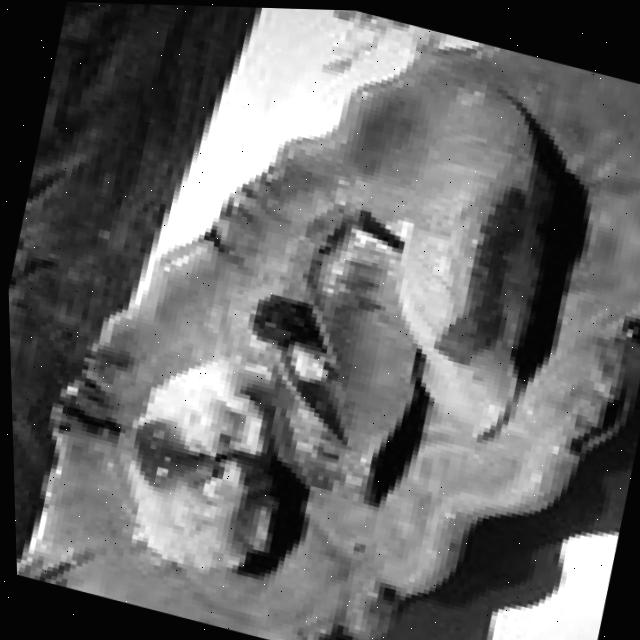寿司卷物: (57, 1, 638, 640)
